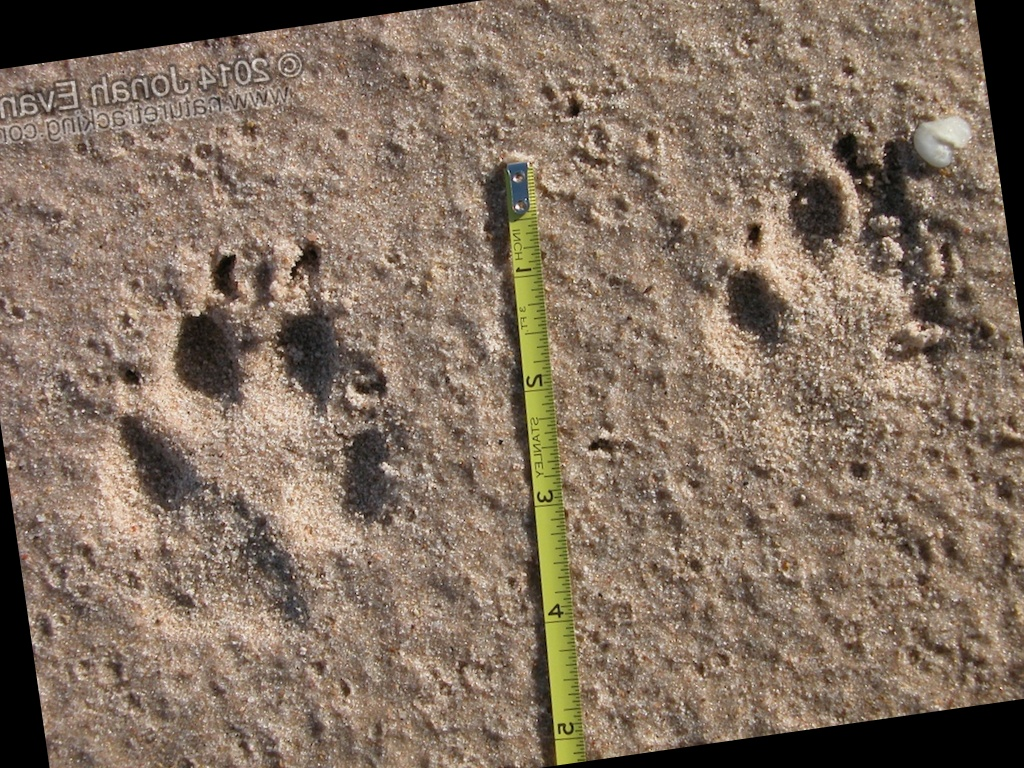coyote: (66, 224, 444, 651)
